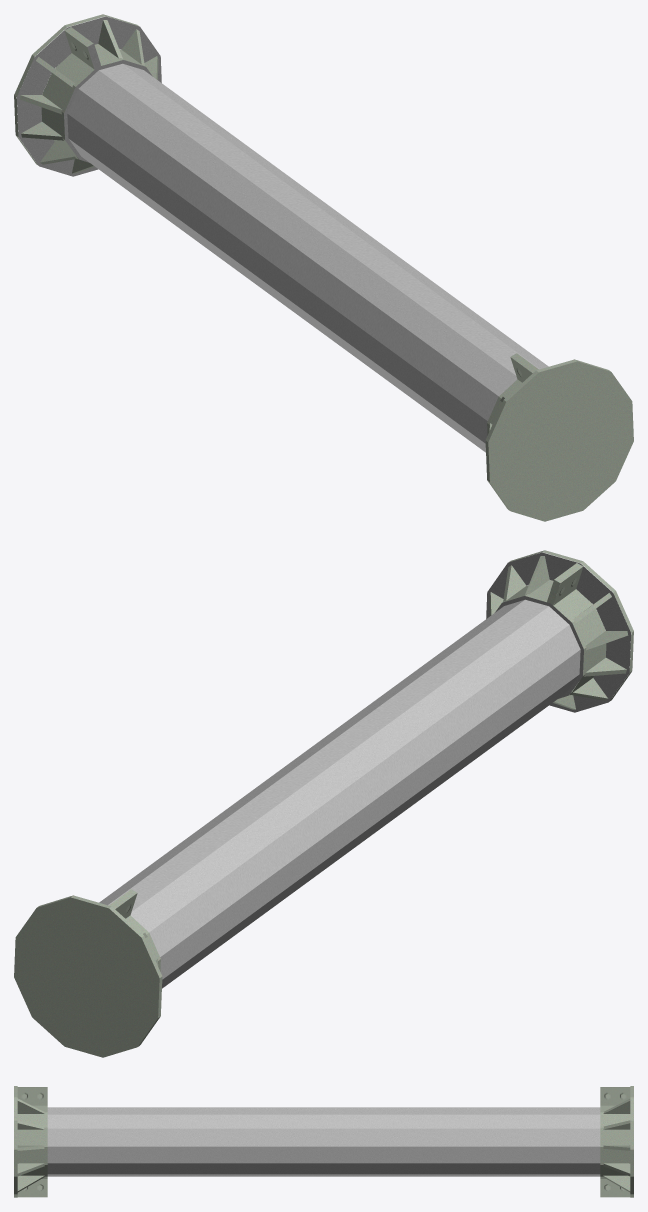
Rendered from sbzz003-geode.glb.
3 views of the same model, one above another, from view 1: azimuth 30°, elevation 25°; view 2: azimuth 150°, elevation 25°; view 3: azimuth 270°, elevation 25° (orthographic). The views are drawn at different scales.
Visible parts, largest first — view 1: Node; view 2: Node; view 3: Node.
Part boxes in pixels (x1=…): Node: x1=14, y1=14, x2=633, y2=521; Node: x1=14, y1=550, x2=633, y2=1057; Node: x1=14, y1=1086, x2=633, y2=1197.
Size of the model in its own units: 0.4433 by 0.4433 by 2.5.
4 materials, 4 textured.
